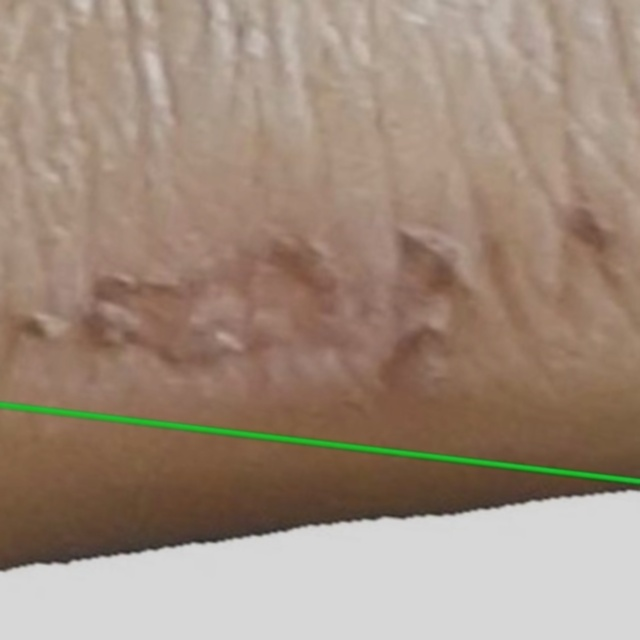Atopic Dermatitis: (0, 406, 639, 639)
